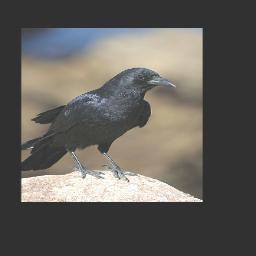Crow: (22, 66, 179, 183)
